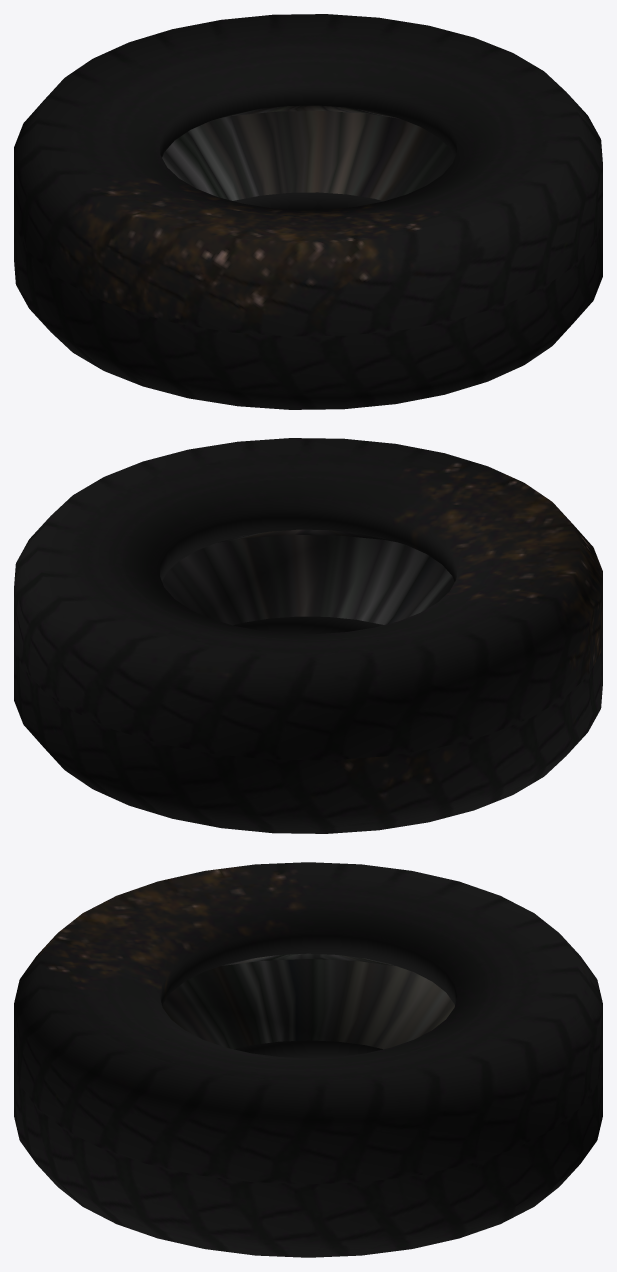
File: defaulttyre.glb
3 renders of one model, top to bottom at view 1: azimuth 30°, elevation 25°; view 2: azimuth 150°, elevation 25°; view 3: azimuth 270°, elevation 25°, orthographic.
Parts seen in each view (by area): view 1: DefaultTyre; view 2: DefaultTyre; view 3: DefaultTyre.
Part boxes in pixels (x1,y1,x2,y2): DefaultTyre: (14,14,602,409); DefaultTyre: (14,438,602,833); DefaultTyre: (14,862,602,1257).
Size of the model in its own units: 1.88 by 0.5843 by 1.88.
Materials: 1 (1 with a texture image).
